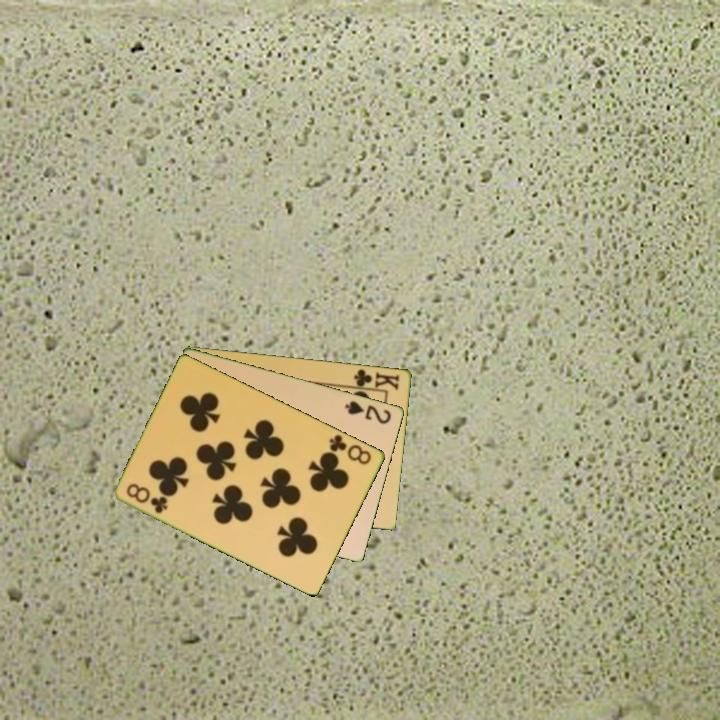2s: (342, 397, 394, 427)
8c: (326, 431, 375, 468), (123, 480, 171, 516)
Kc: (348, 365, 403, 393)
